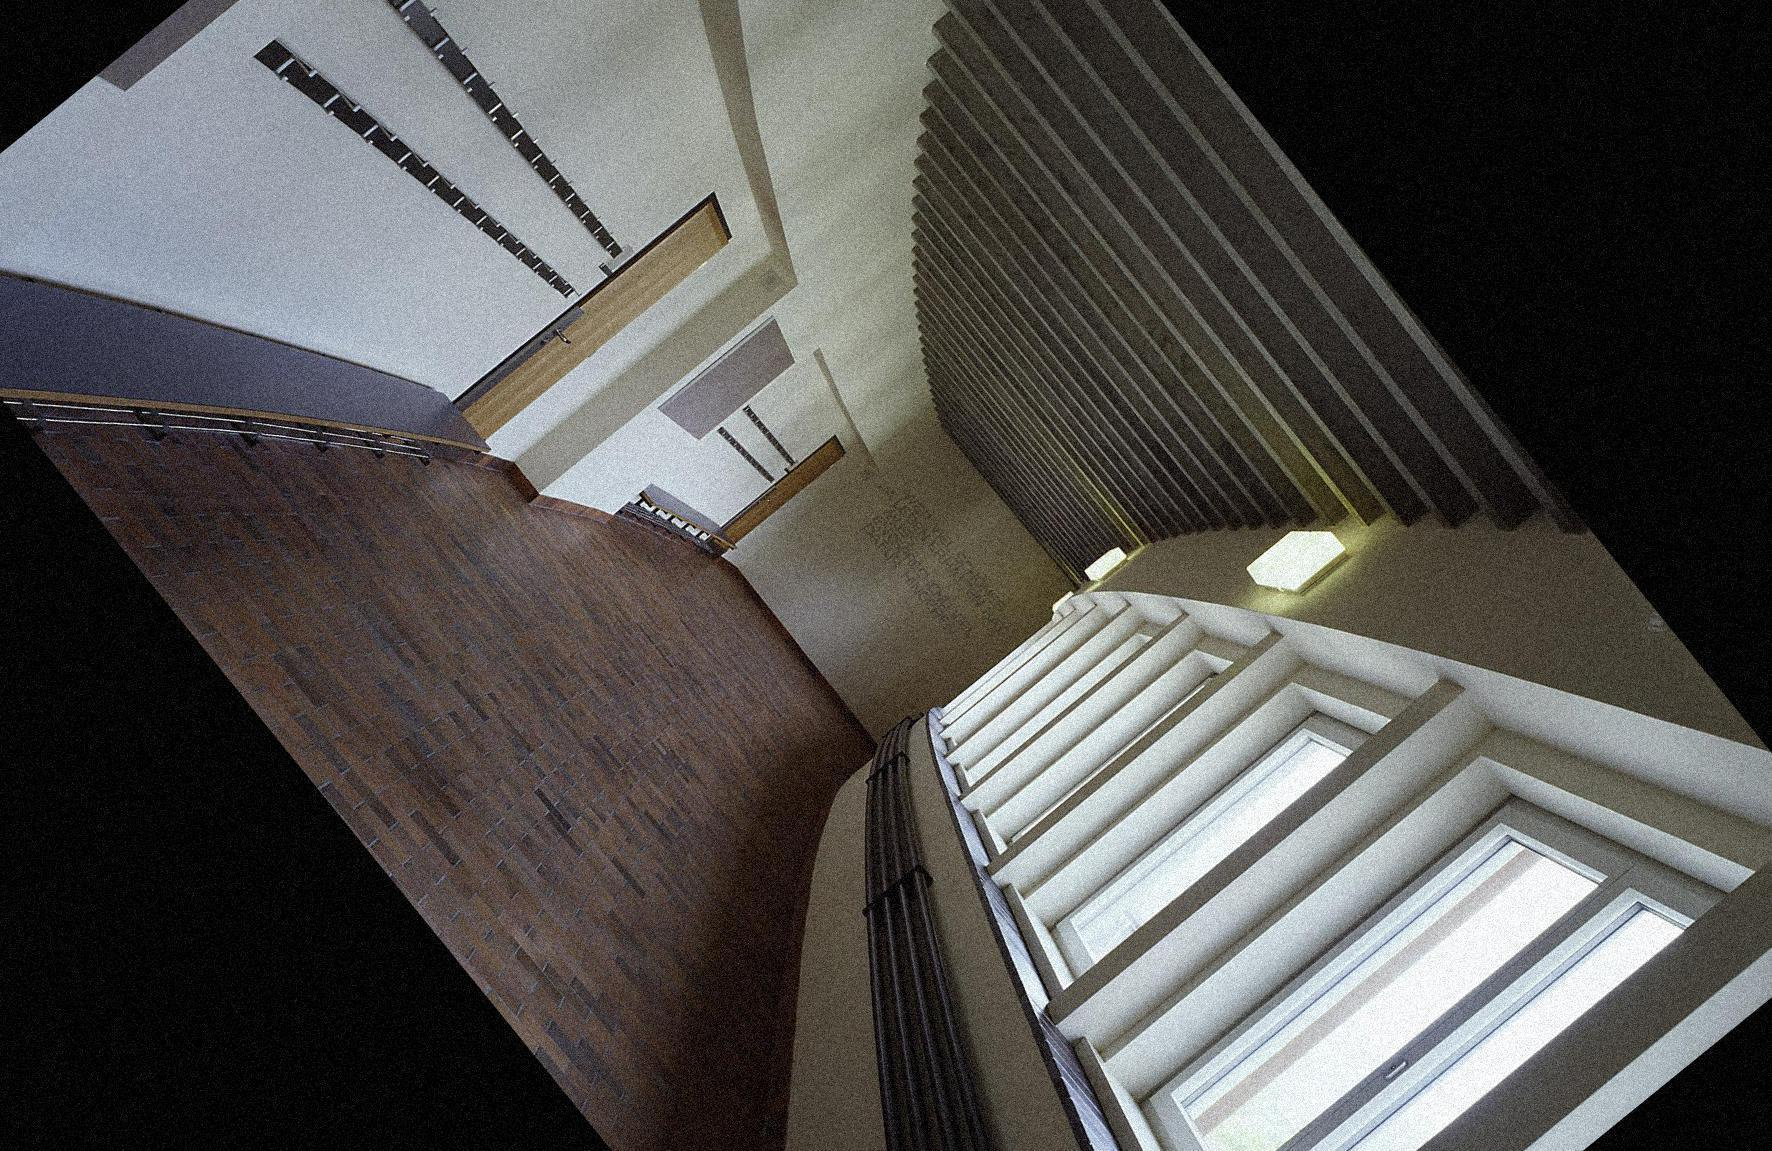Puerta: (449, 191, 744, 446), (706, 431, 855, 561)
